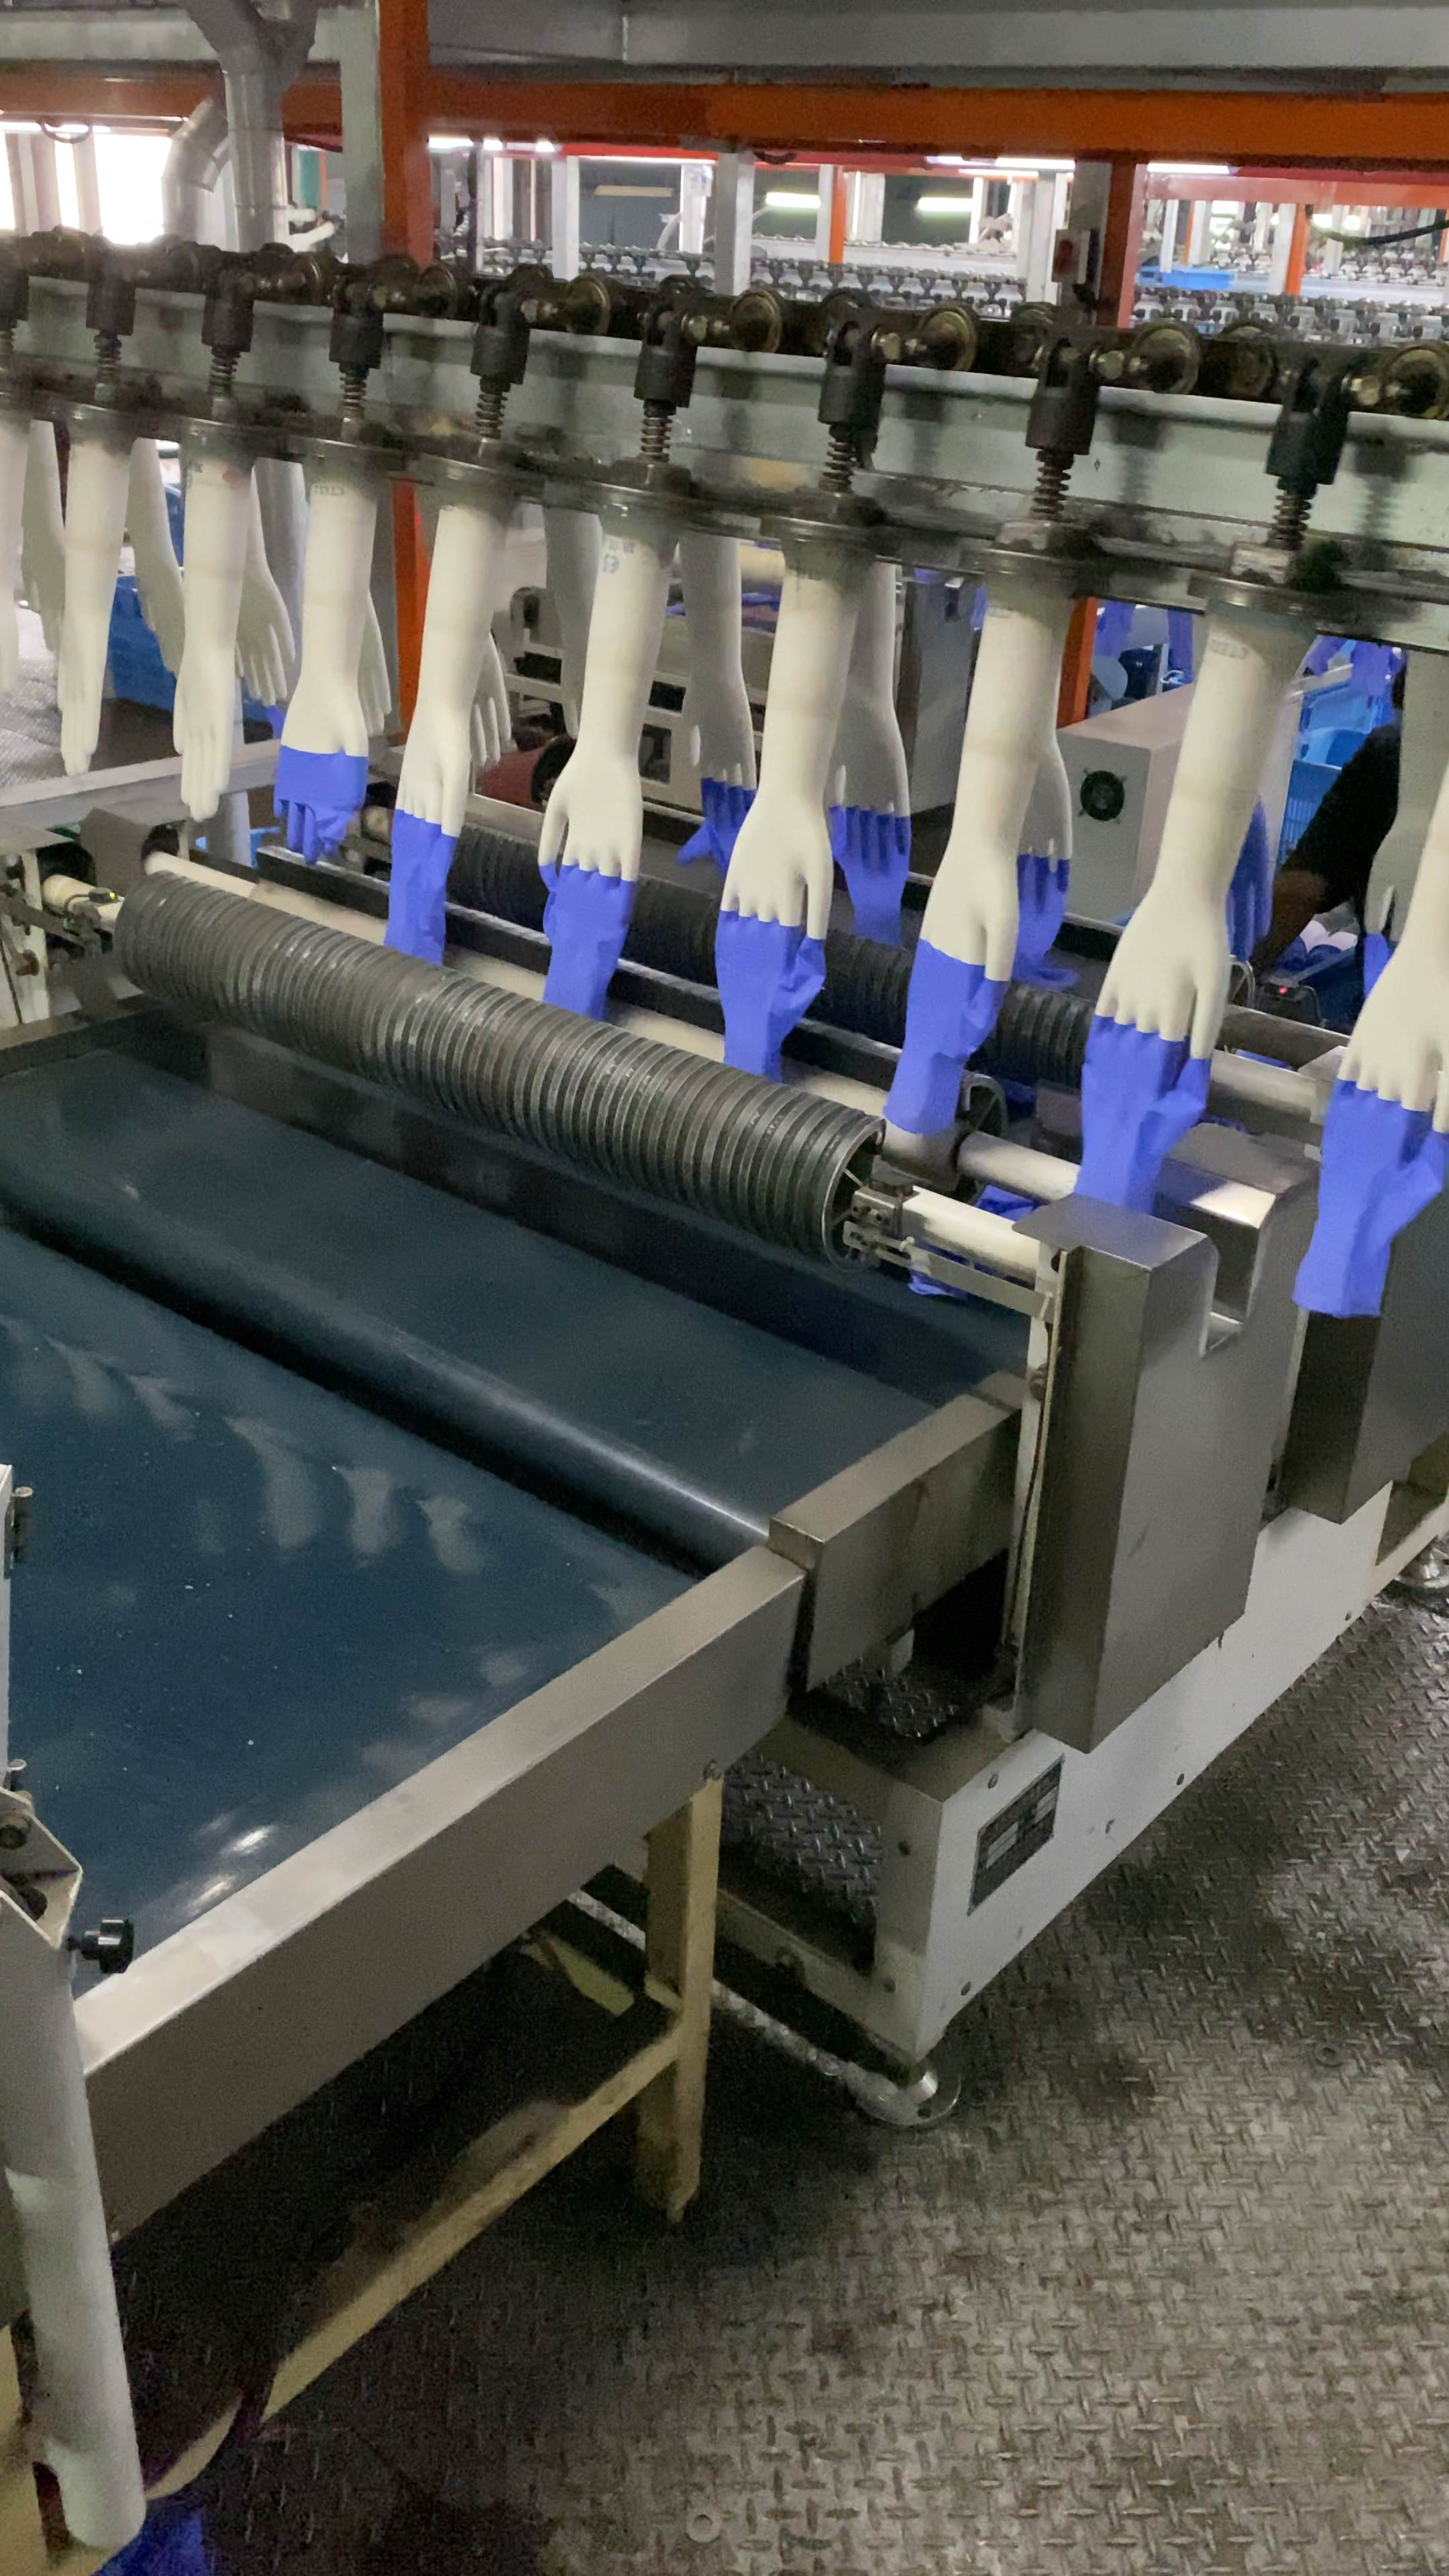glove: (1292, 1077, 1449, 1318), (1079, 1019, 1210, 1217), (885, 939, 1007, 1131), (713, 909, 826, 1079), (536, 863, 633, 1024), (386, 809, 458, 966), (274, 745, 366, 863), (830, 809, 908, 936), (1016, 855, 1079, 989), (676, 778, 755, 876), (1224, 801, 1270, 961)
